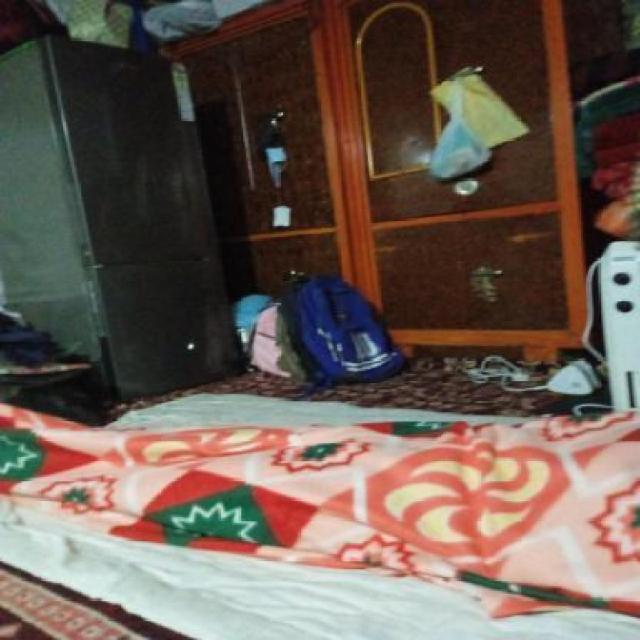backpack: (283, 268, 409, 392)
